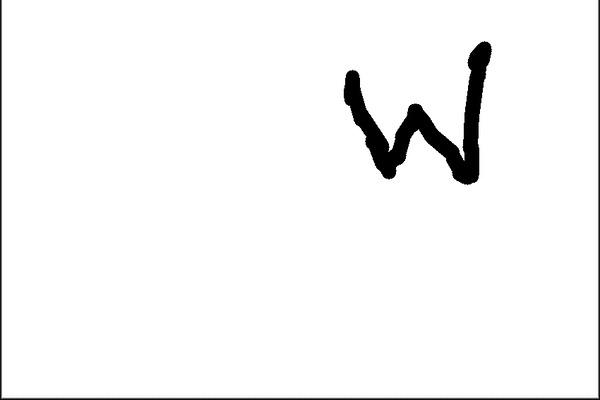w: (323, 31, 502, 204)
